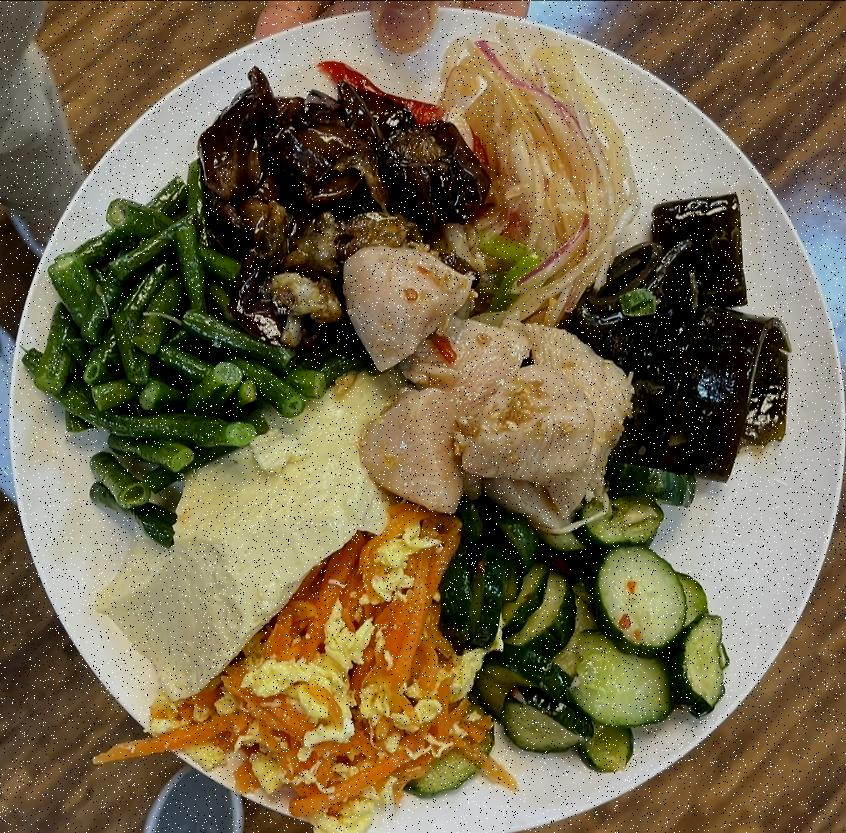big fried chicken leg: (12, 4, 846, 833)
braised fish fillet: (32, 164, 322, 546), (94, 370, 395, 698), (434, 466, 732, 781), (192, 512, 476, 826), (190, 66, 490, 318), (584, 186, 794, 478), (452, 25, 632, 324)
braised pork: (331, 242, 636, 512)
